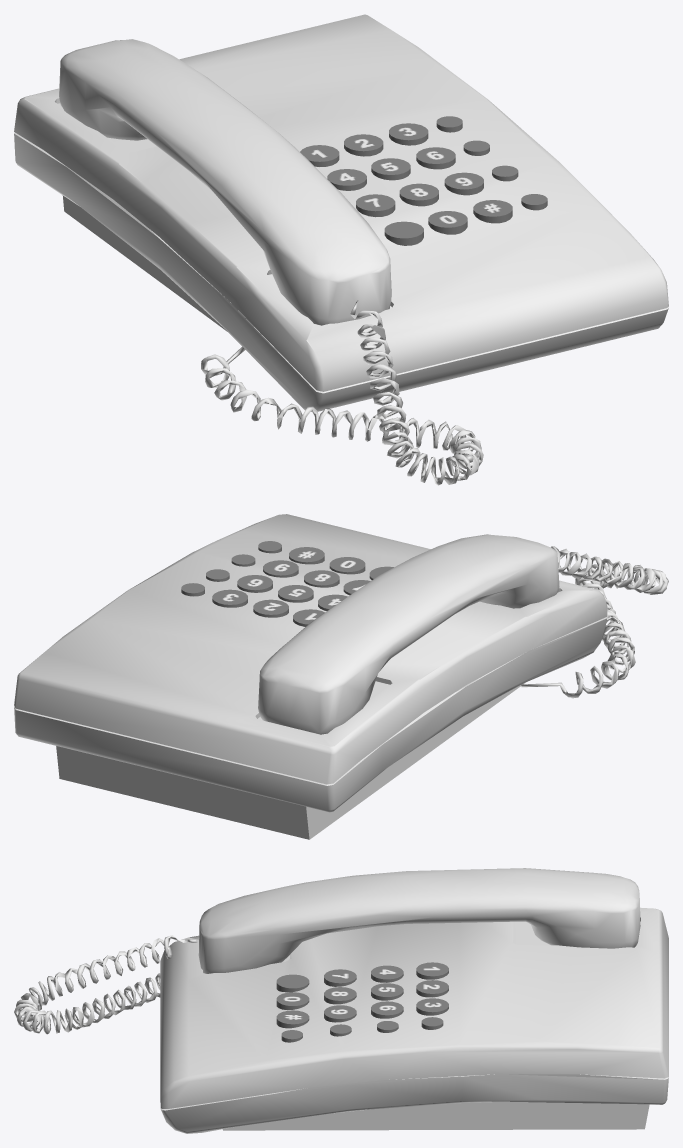
The model's file is Phone.FBX.
3 views of the same model, one above another, from view 1: azimuth 30°, elevation 25°; view 2: azimuth 150°, elevation 25°; view 3: azimuth 270°, elevation 25° (orthographic). The views are drawn at different scales.
Visible parts, largest first — view 1: phone; view 2: phone; view 3: phone.
Boxes of the visible parts, x1=… form: phone: x1=14, y1=14, x2=668, y2=485; phone: x1=14, y1=514, x2=668, y2=839; phone: x1=14, y1=868, x2=668, y2=1133.
Bounding box in the file's own units: 19.24 × 8.2 × 32.2.
Materials: 1 (1 with a texture image).
